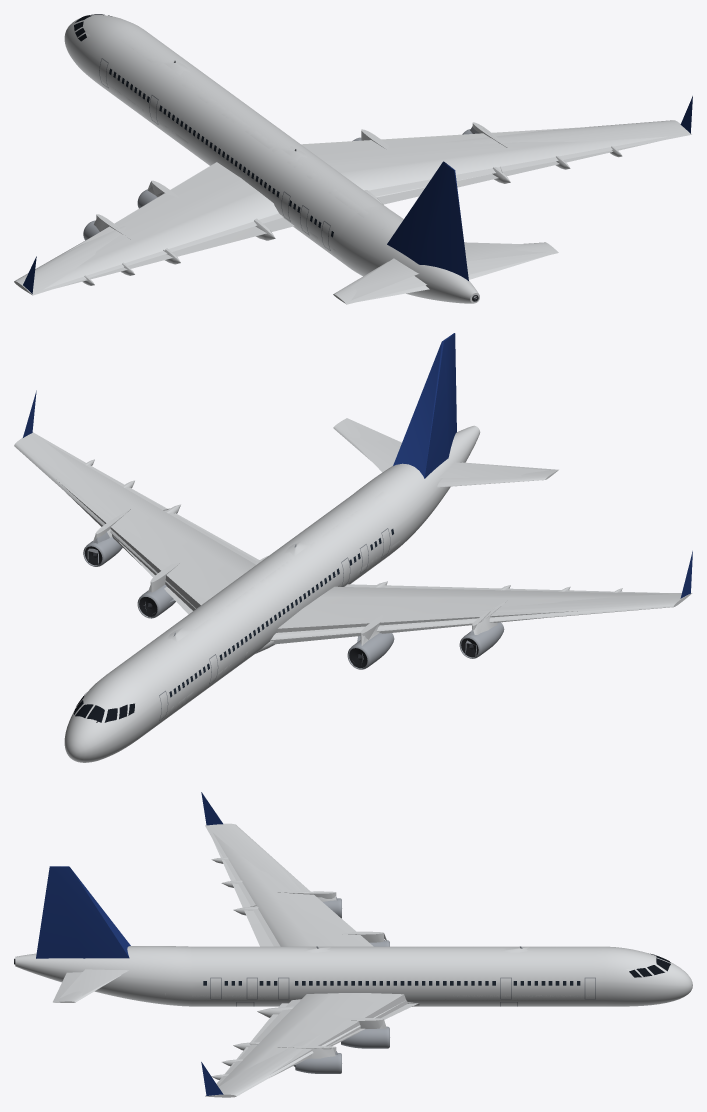
File: lat_quadjet.dae
3 views of the same model, one above another, from view 1: azimuth 30°, elevation 25°; view 2: azimuth 150°, elevation 25°; view 3: azimuth 270°, elevation 25° (orthographic). The views are drawn at different scales.
Visible parts, largest first — view 1: lat_quadjet150, lat_quadjet32, lat_quadjet1; view 2: lat_quadjet150, lat_quadjet32, lat_quadjet1; view 3: lat_quadjet150, lat_quadjet32, lat_quadjet1.
Part boxes in pixels (box(x1,y1,x2,y2)): lat_quadjet150: box(14, 14, 691, 304); lat_quadjet32: box(43, 15, 669, 301); lat_quadjet1: box(23, 96, 692, 300); lat_quadjet150: box(14, 418, 692, 762); lat_quadjet32: box(46, 442, 668, 723); lat_quadjet1: box(23, 333, 692, 642); lat_quadjet150: box(14, 823, 692, 1097); lat_quadjet32: box(136, 833, 650, 1086); lat_quadjet1: box(36, 792, 418, 1095).
Size of the model in its own units: 60.3 by 63.82 by 14.48.
